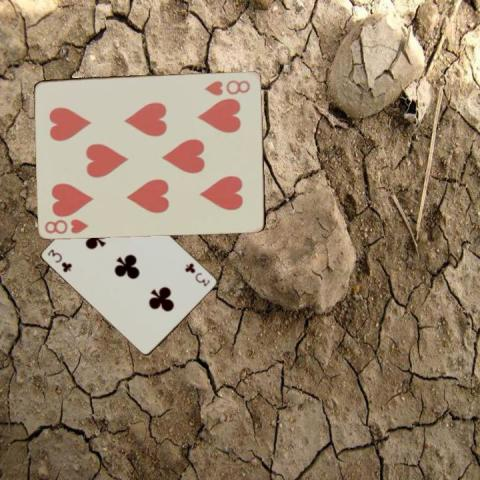3c: (182, 260, 211, 288), (45, 246, 73, 273)
8h: (201, 76, 252, 96), (42, 216, 90, 236)
